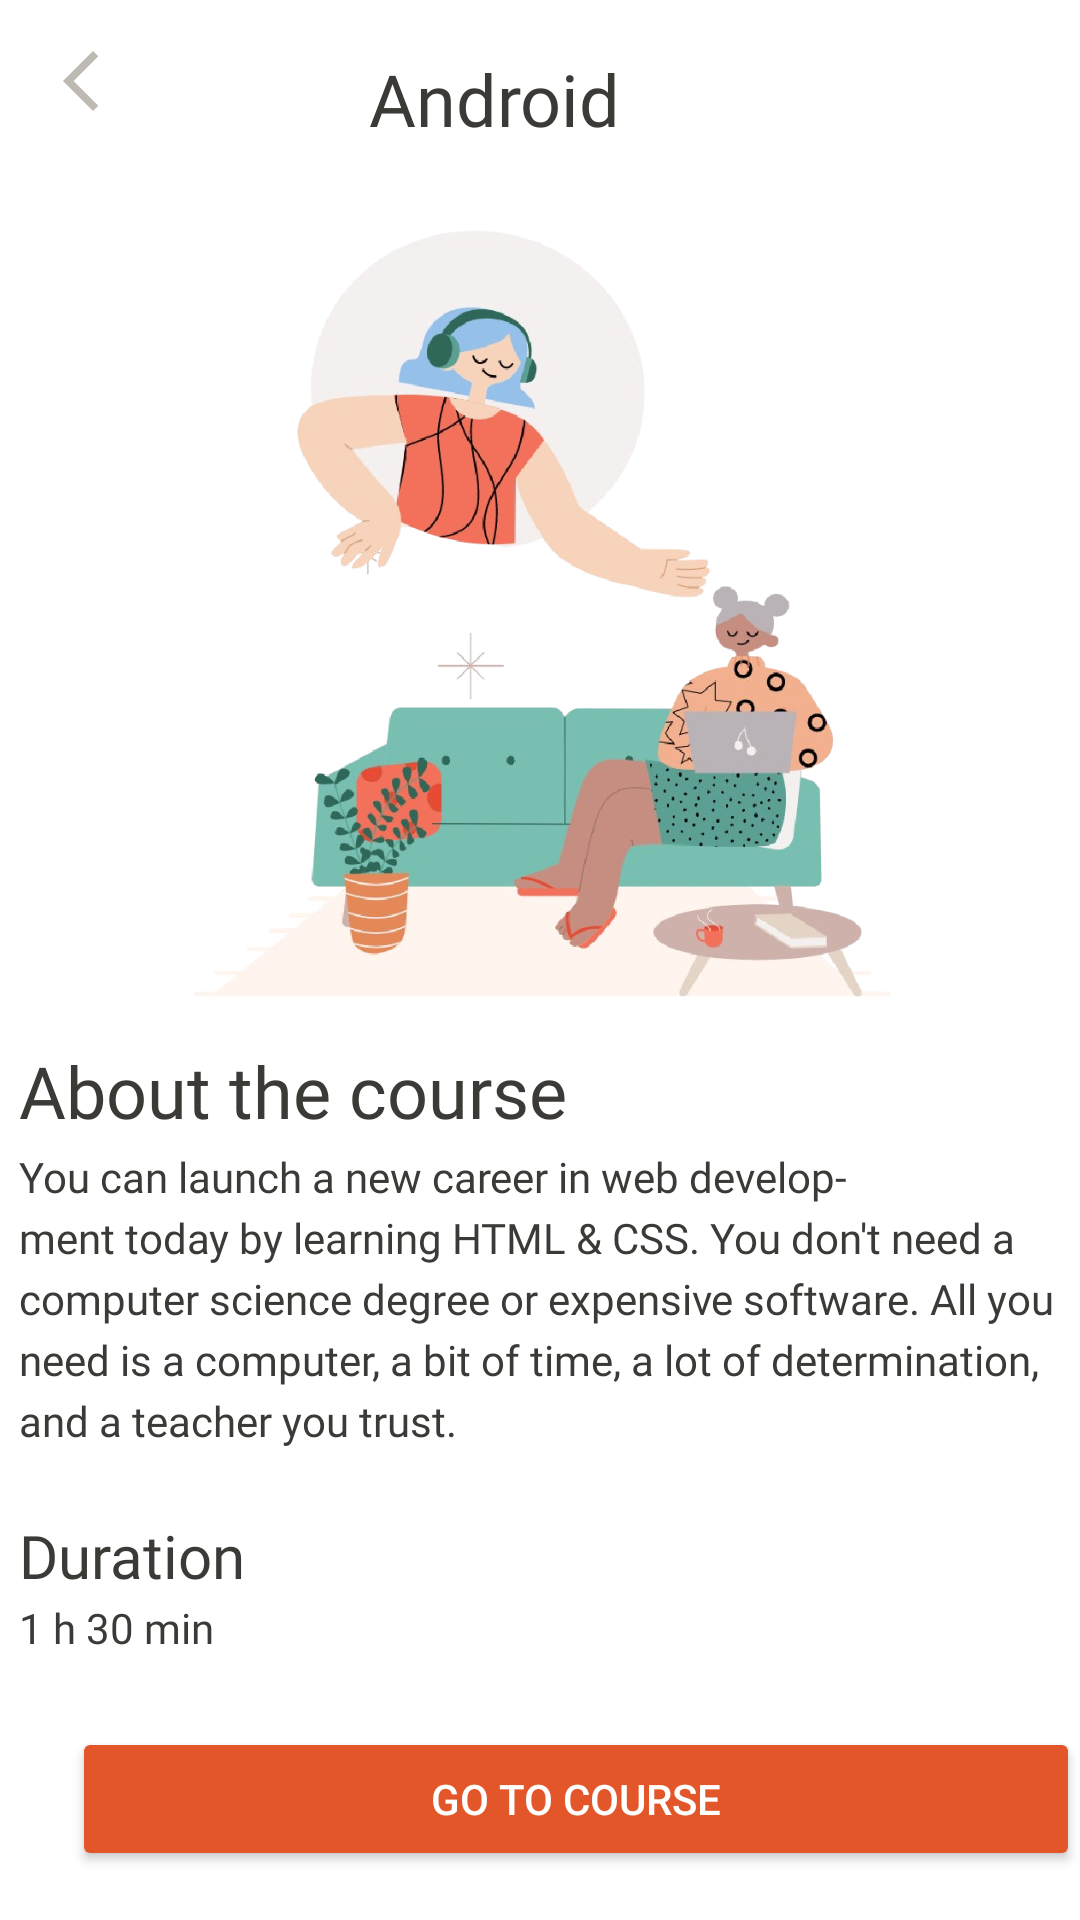

Icon click points for this 1080 x 1920 phone screenshot, format (x,y):
back: (80,81)
